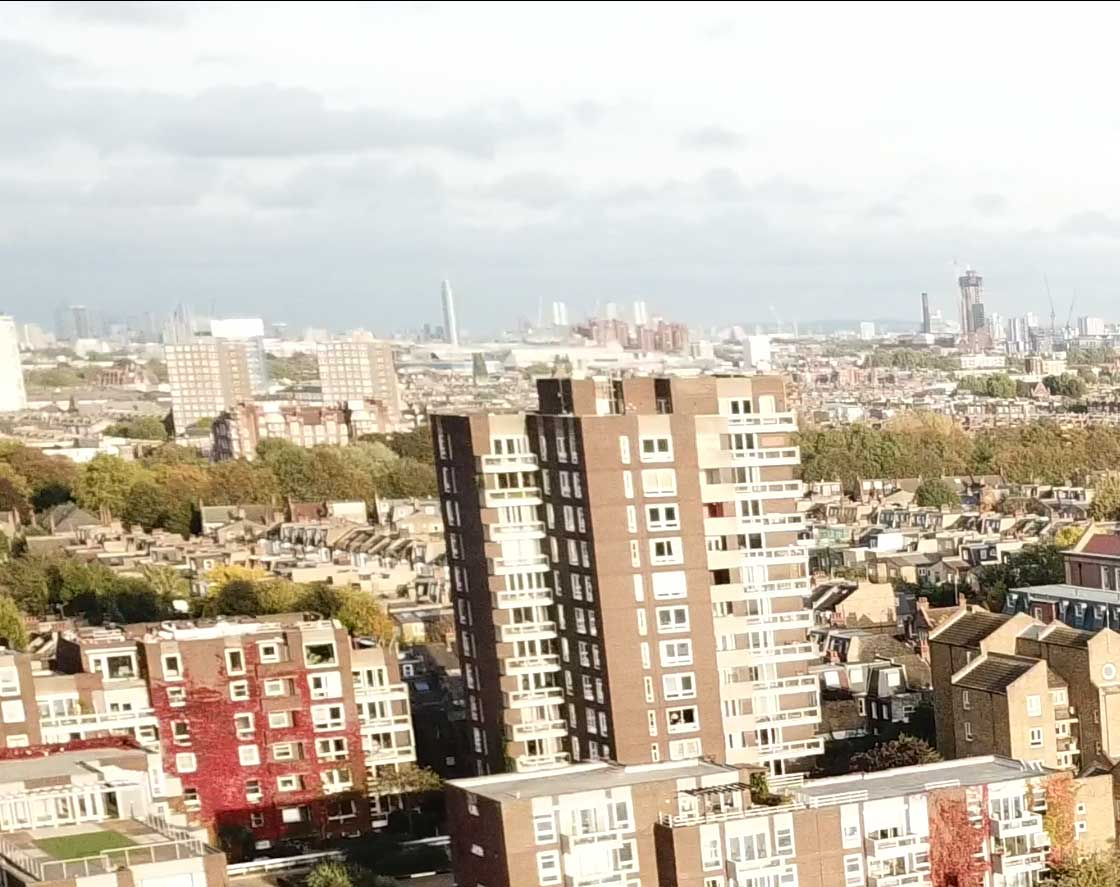building: (423, 351, 848, 789)
